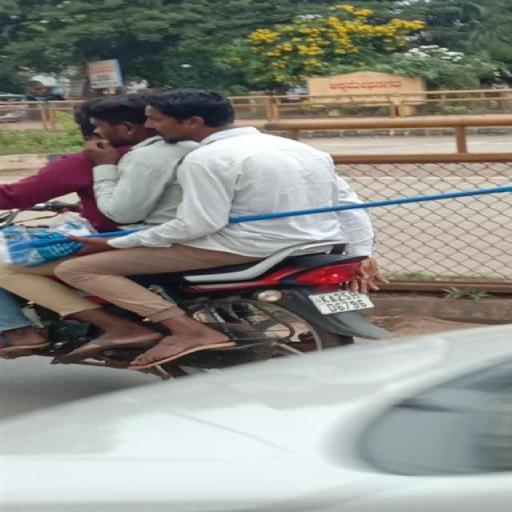tripple riding: (2, 83, 392, 275)
